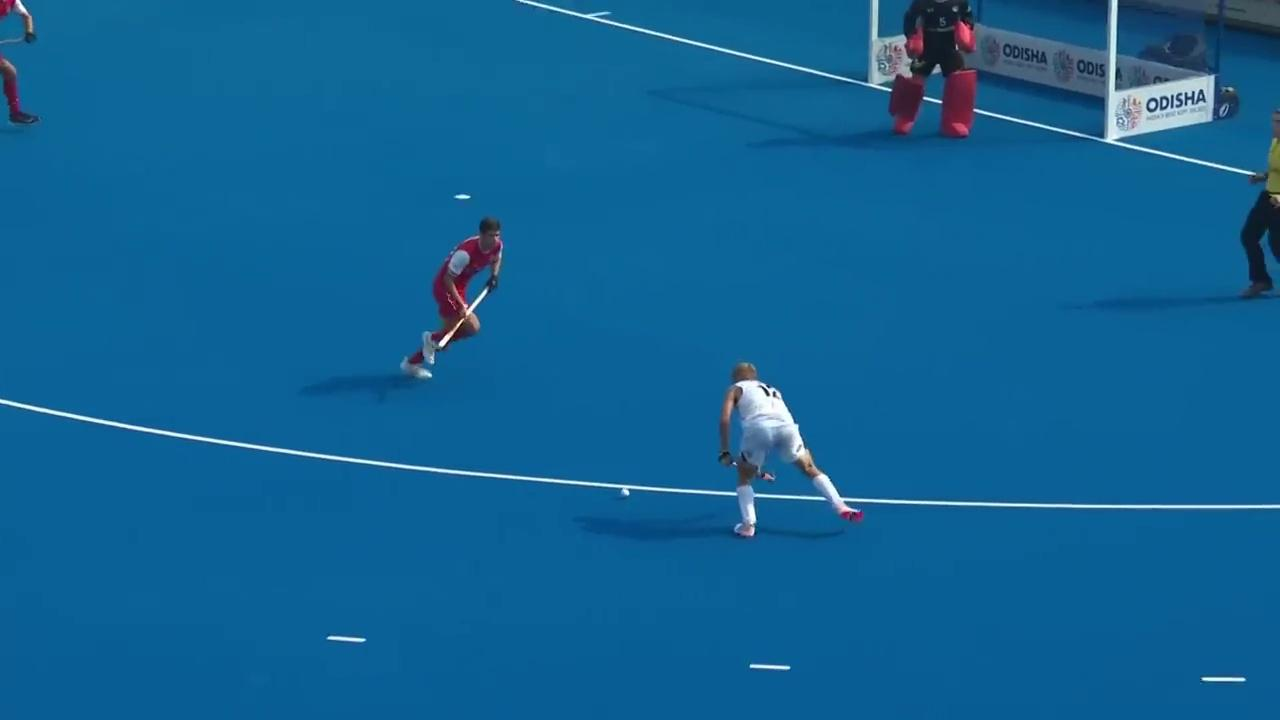ball: (617, 479, 636, 499)
